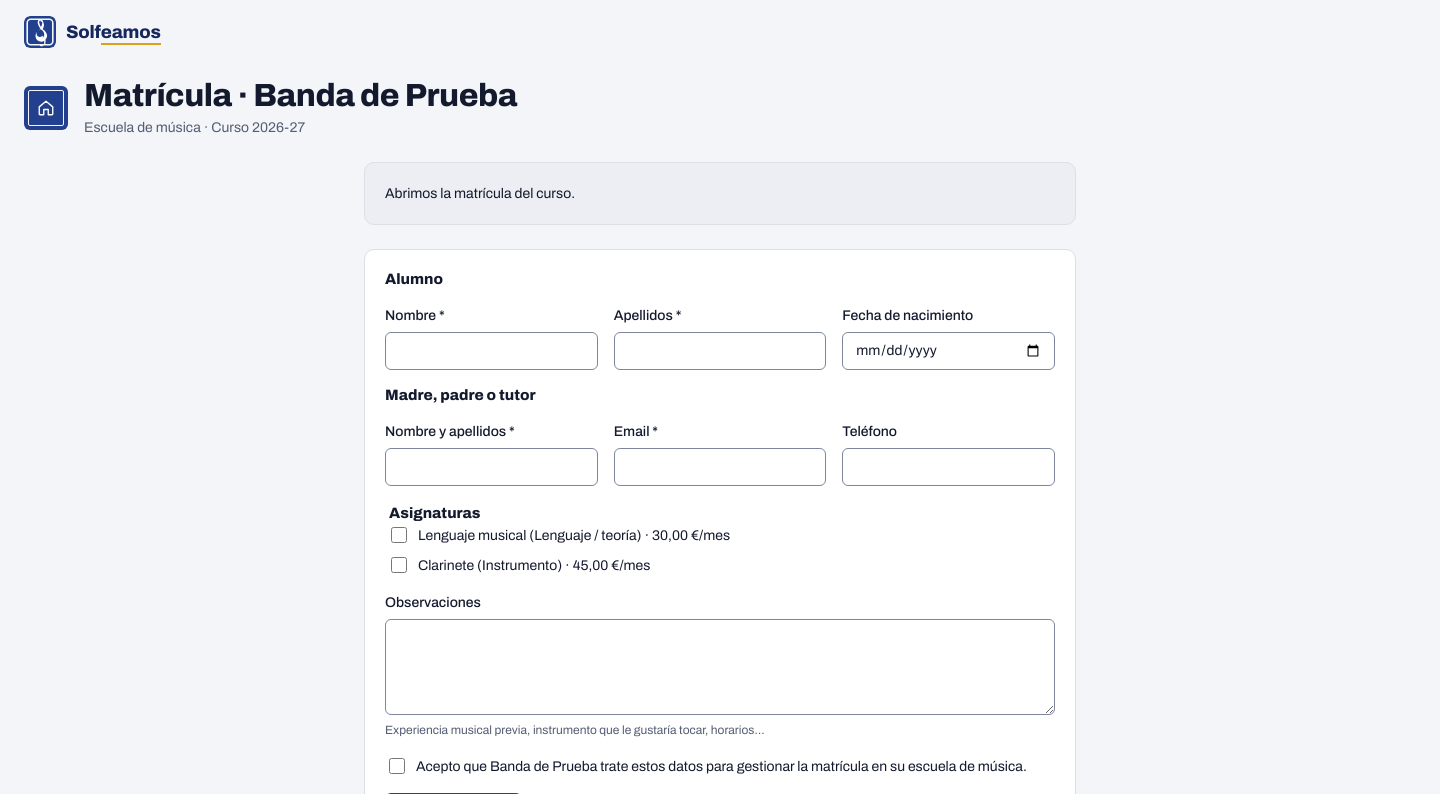
Matrícula online › muestra la oferta, exige consentimiento y confirma el envío
Check: the text "Abrimos la matrícula del curso." is shown, box [385,186,575,201]
Check: the heading "Matrícula · Banda de Prueba" is shown, box [84,78,517,113]
Type "Hugo" into the field labelled "Nombre *" at [491, 351], box [385,332,598,370]
Type "Sanz" into the field labelled "Apellidos *" at [720, 351], box [614,332,826,370]
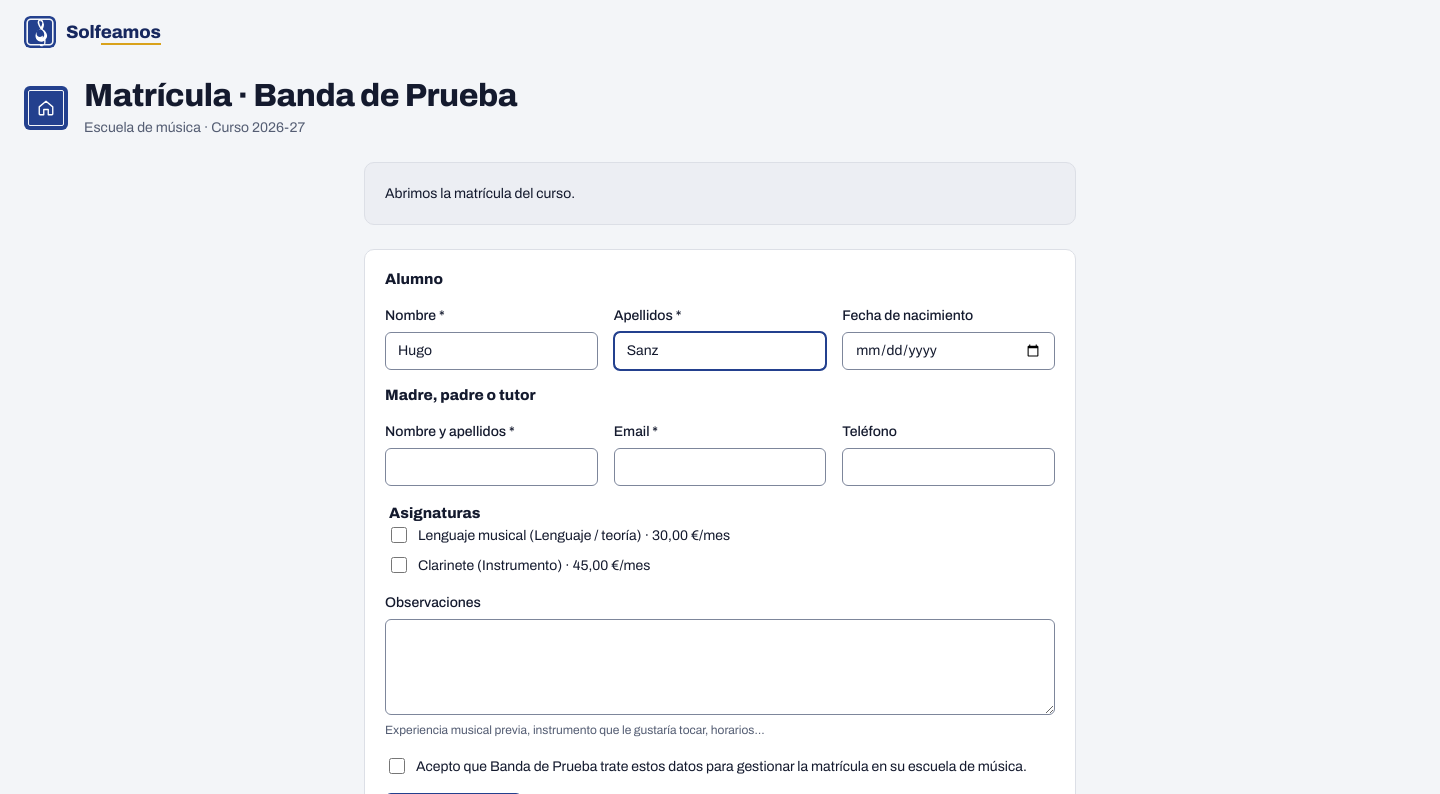
Type "Elena Sanz" into the field labelled "Nombre y apellidos *" at [491, 467], box [385,448,598,486]
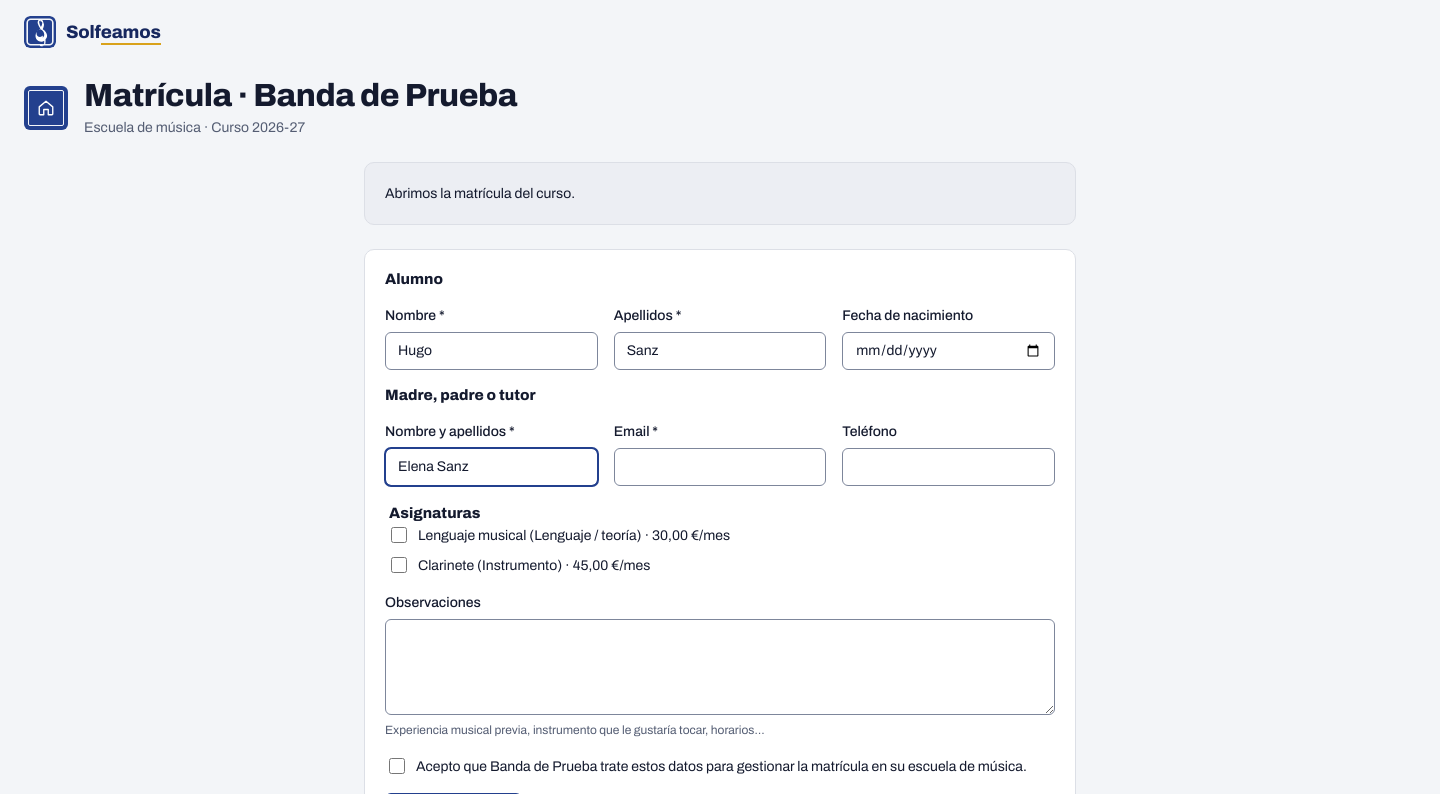
Type "elena@example.test" into the field labelled "Email *" at [720, 467], box [614,448,826,486]
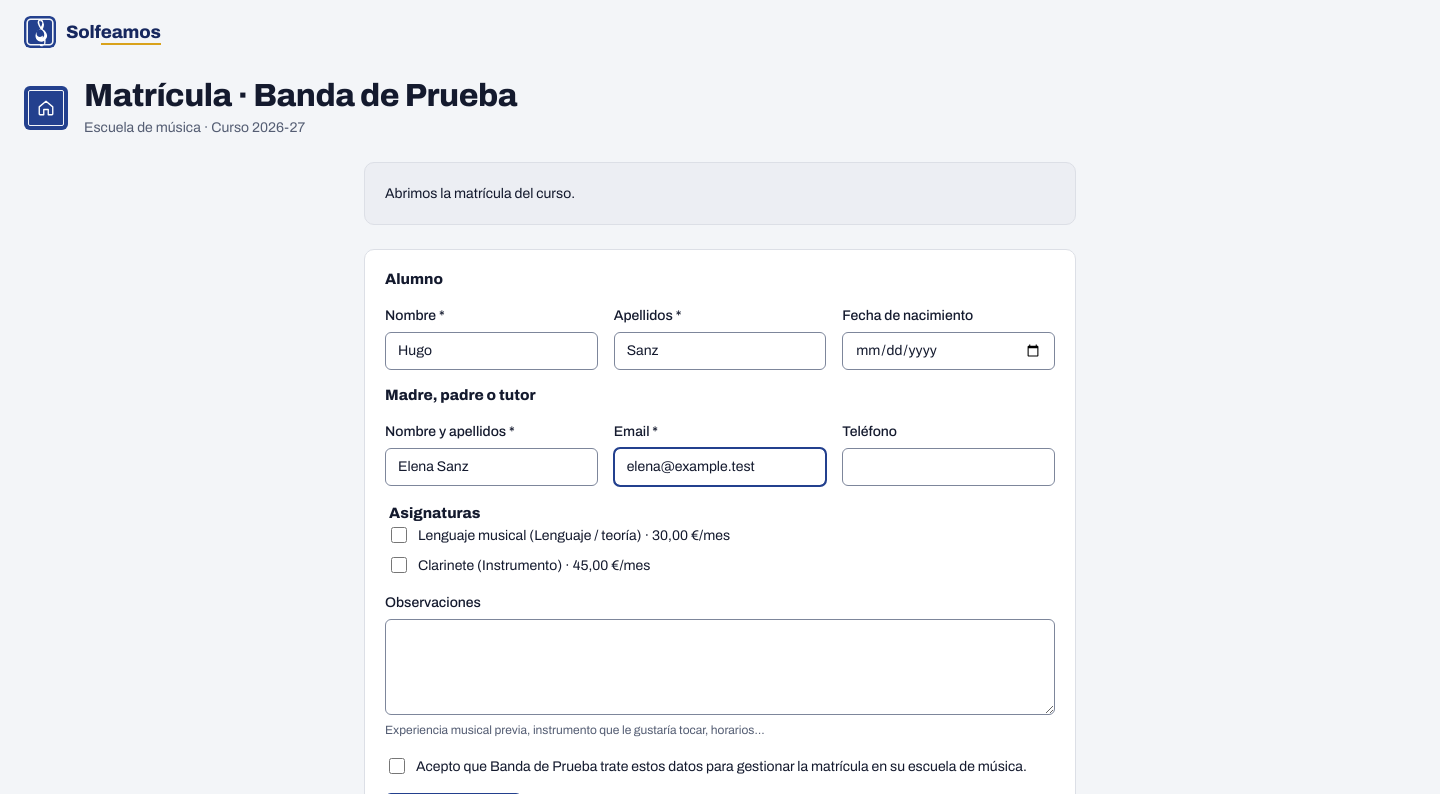
Click the checkbox labelled "Clarinete (Instrumento) · 45,00 €/mes" at [399, 565], box [391,557,407,573]
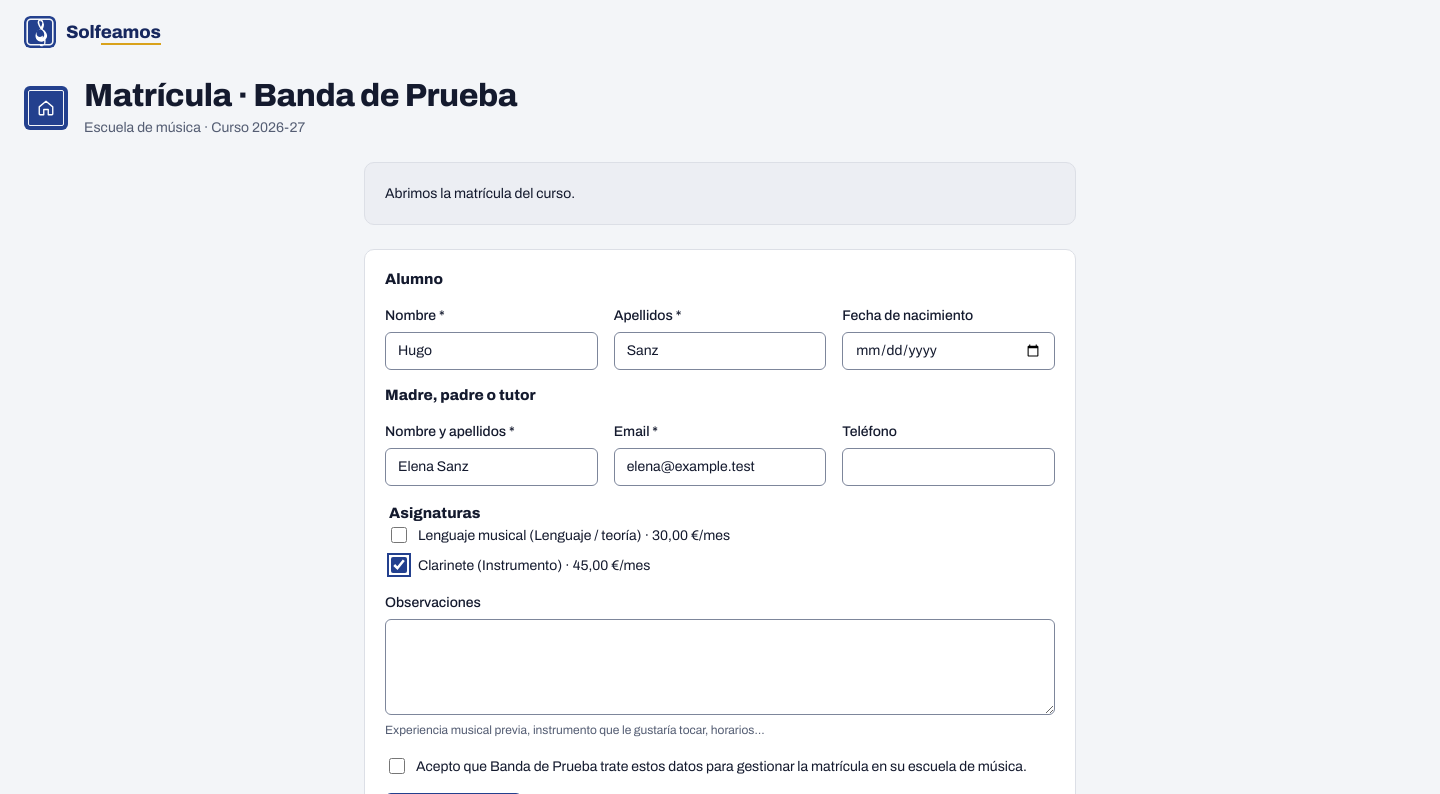
Click the checkbox labelled "Acepto que Banda de Prueba" at [397, 766], box [389,758,405,774]
(page scrolled)
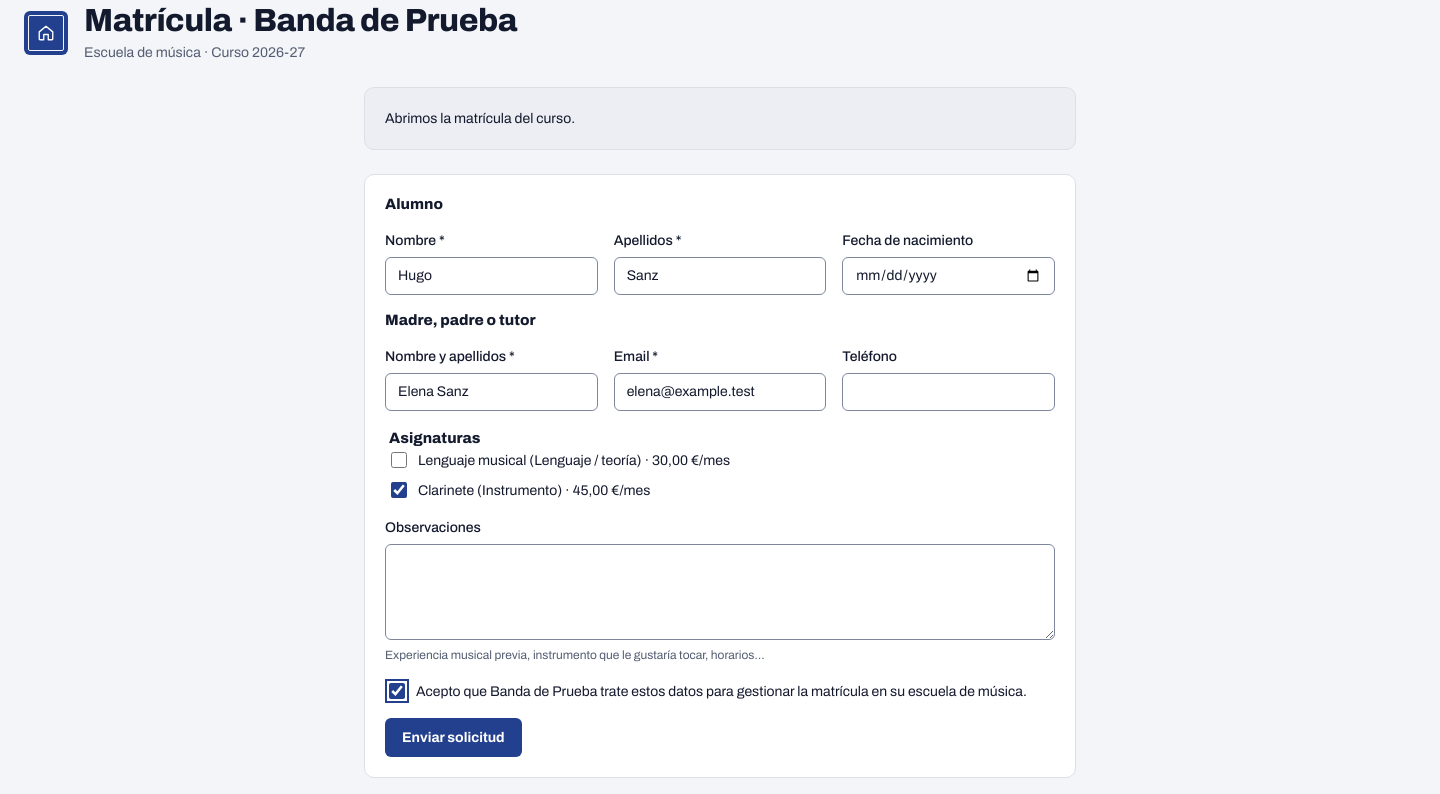
Click the button "Enviar solicitud" at [453, 738], box [385,718,522,757]
(page scrolled)
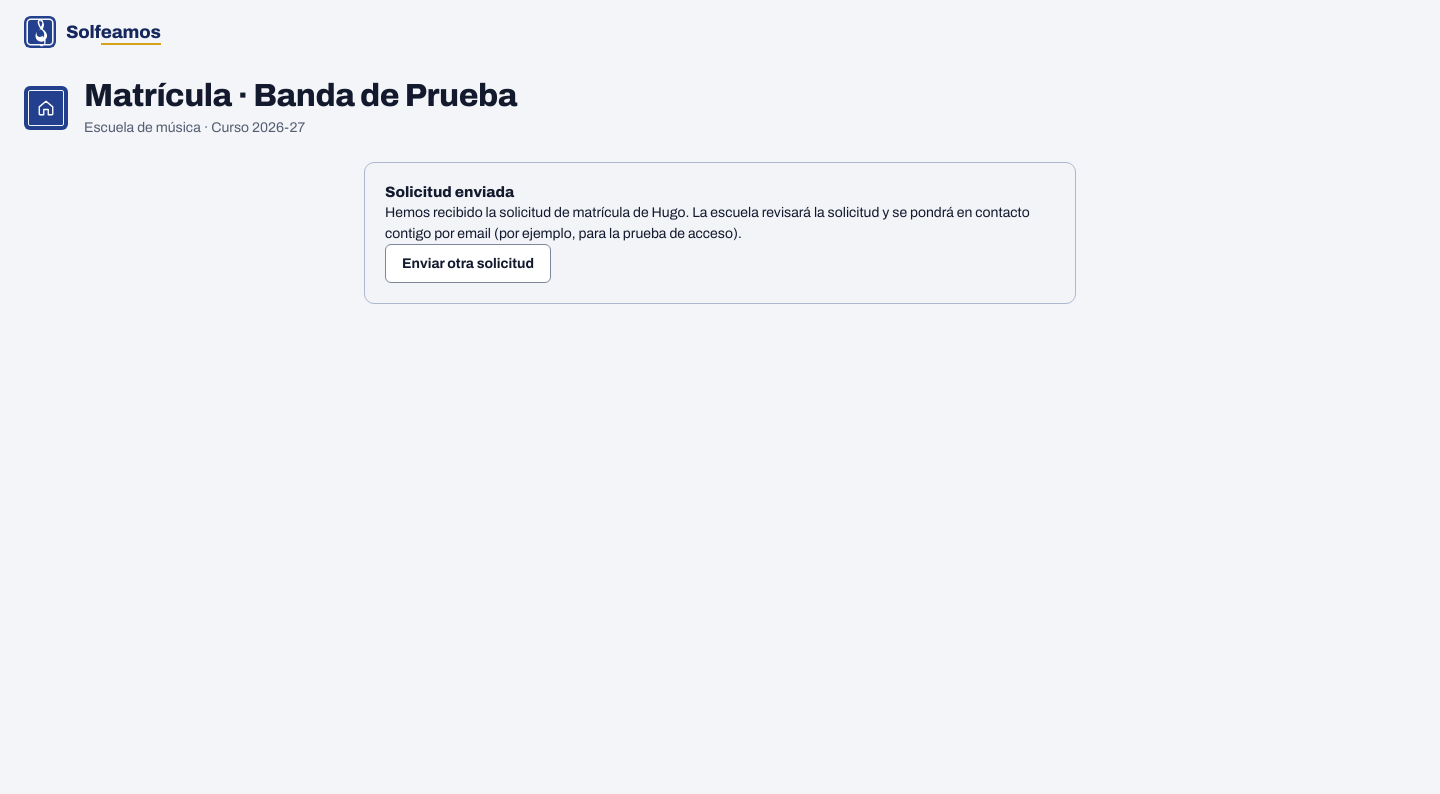
Check: the heading "Solicitud enviada" is shown, box [385,184,514,200]
